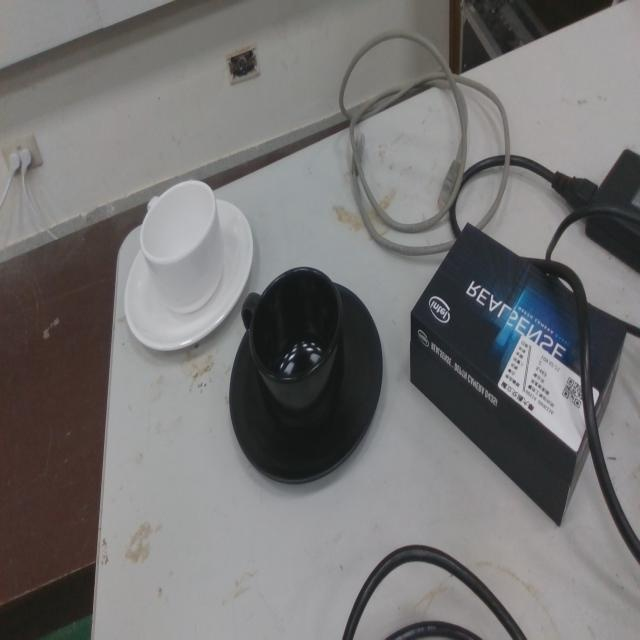black: (226, 264, 386, 494)
white: (121, 176, 256, 357)
